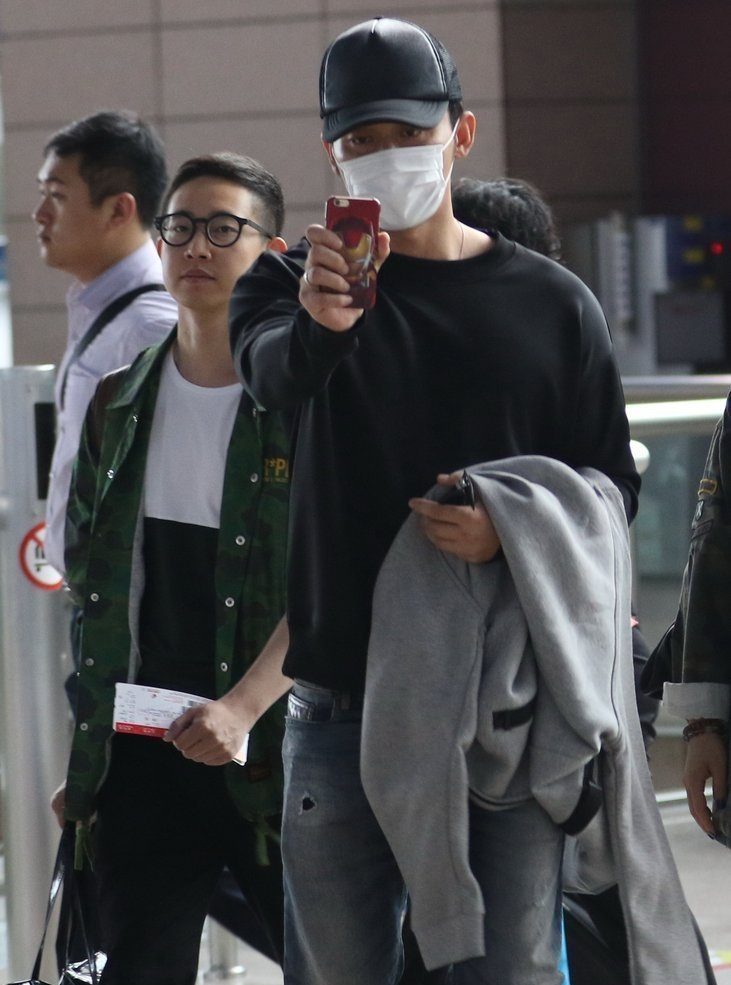face: (163, 180, 246, 310), (33, 149, 101, 270)
face_mask: (336, 90, 447, 231)
